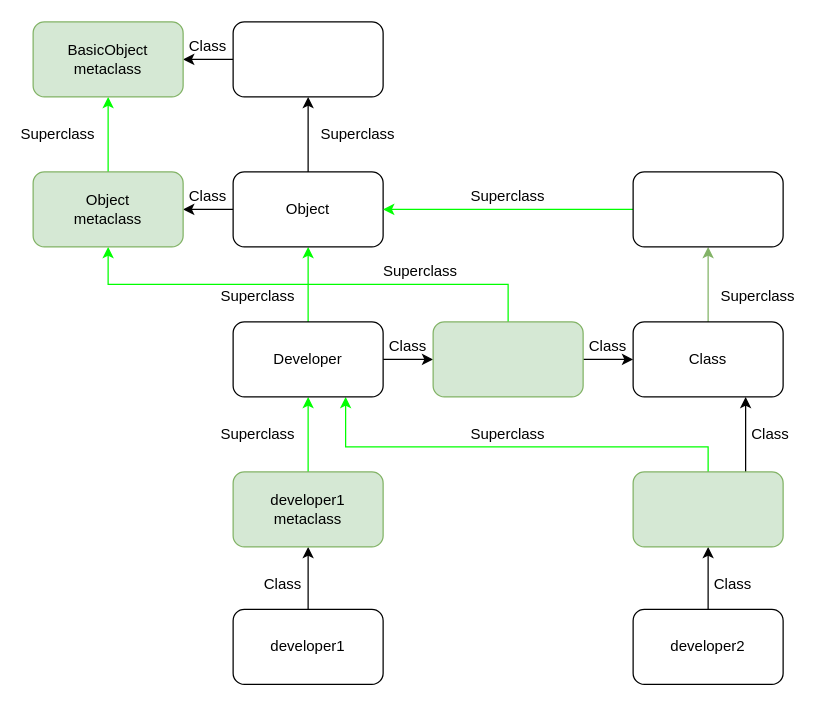
Image size: 818x706. Some labels were removed from this diagram. The centre of each missing label's shape, as x and y in pixels:
BasicObject: [307,59]
Developer metaclass: [507,359]
developer2 metaclass: [707,509]
Module: [707,209]
